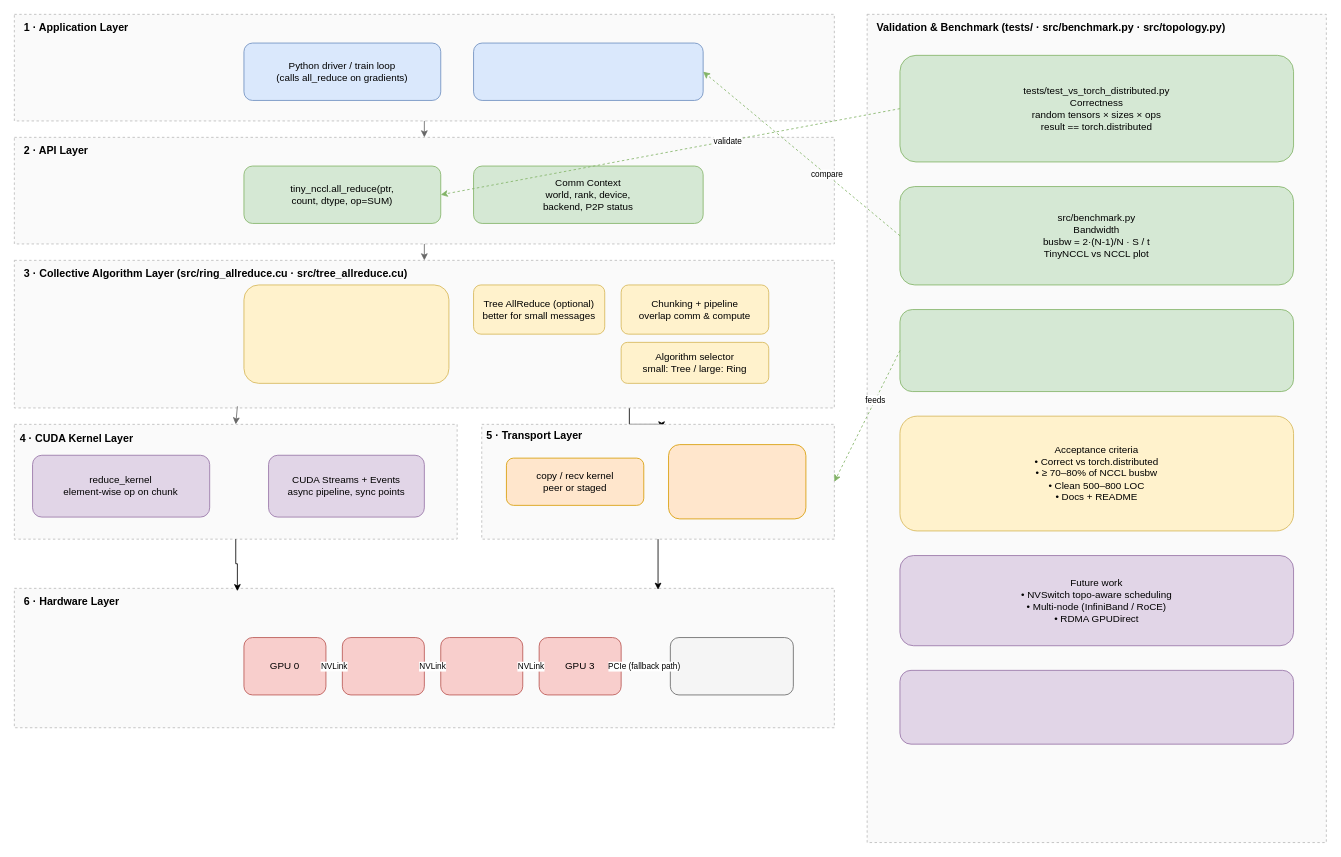
This 1341x857 diagram has some shape labels left out. The centre of each missing label's shape, as x and y in pixels:
"GPU 1" belongs at (383,666).
"GPU 2" belongs at (481,666).
"GPUDirect P2P cudaMemcpyPeerAsync (GPU↔GPU, no host copy)" belongs at (737,481).
"Host RAM (staging fallback)" belongs at (731,666).
"How to run pytest tests/ python src/benchmark.py python src/topology.py" belongs at (1096,707).
"Reference baseline torch.distributed.all_reduce" belongs at (588,71).
"Ring AllReduce (must) ReduceScatter: N-1 steps → AllGather: N-1 steps" belongs at (346,333).
"src/topology.py PCIe / NVLink topology detection (nvidia-smi · sysfs)" belongs at (1096,350).
